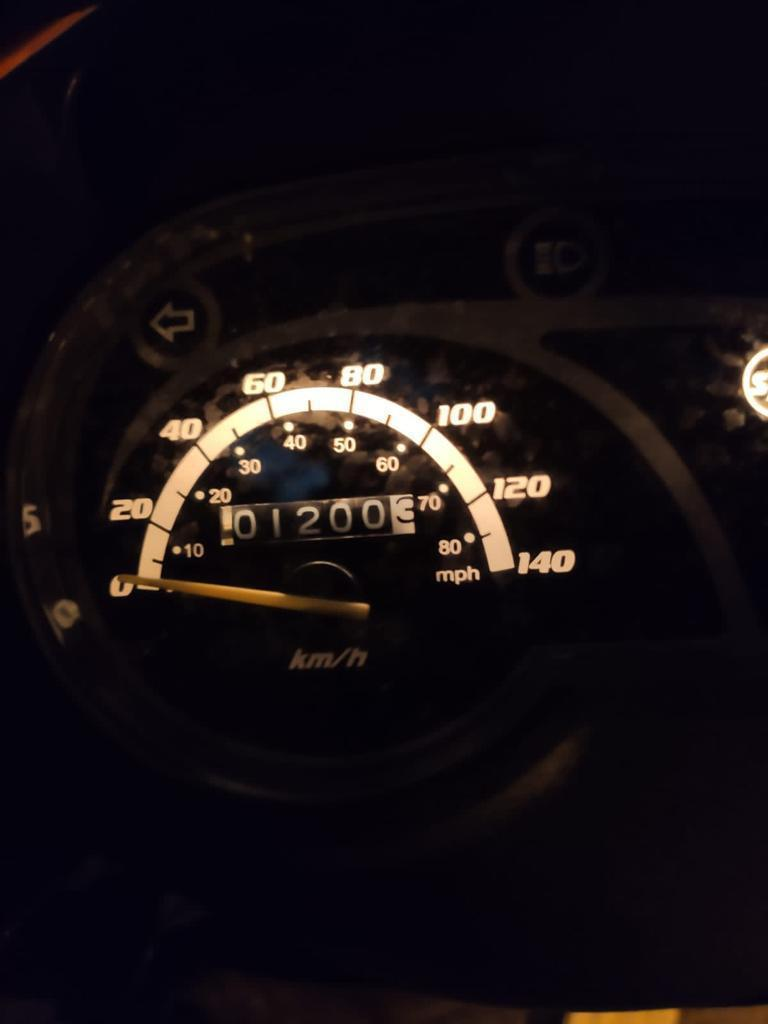0: (328, 501, 352, 534), (360, 499, 384, 529), (233, 509, 256, 540), (219, 487, 232, 503)
1: (270, 507, 281, 538)
2: (295, 505, 320, 535)
3: (395, 496, 415, 524)
odometer: (217, 492, 416, 547)
